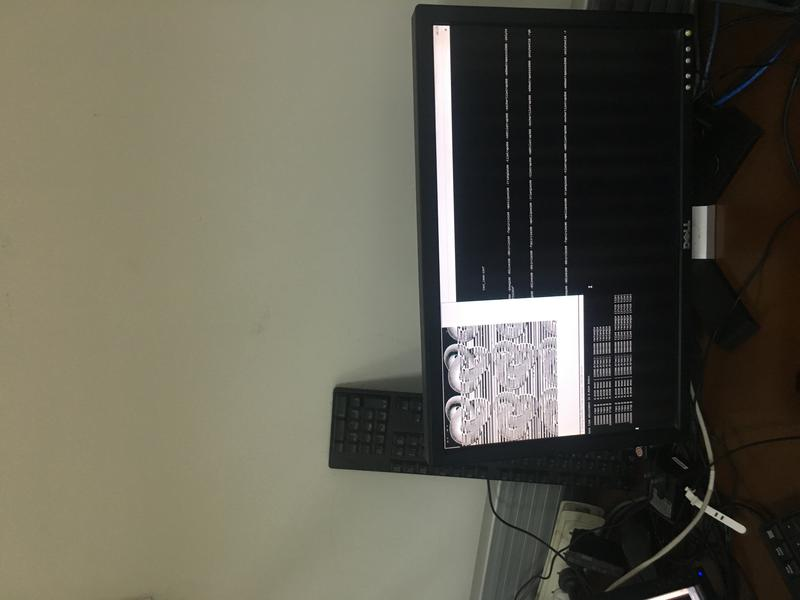xrandr_pass: (432, 295, 592, 449)
